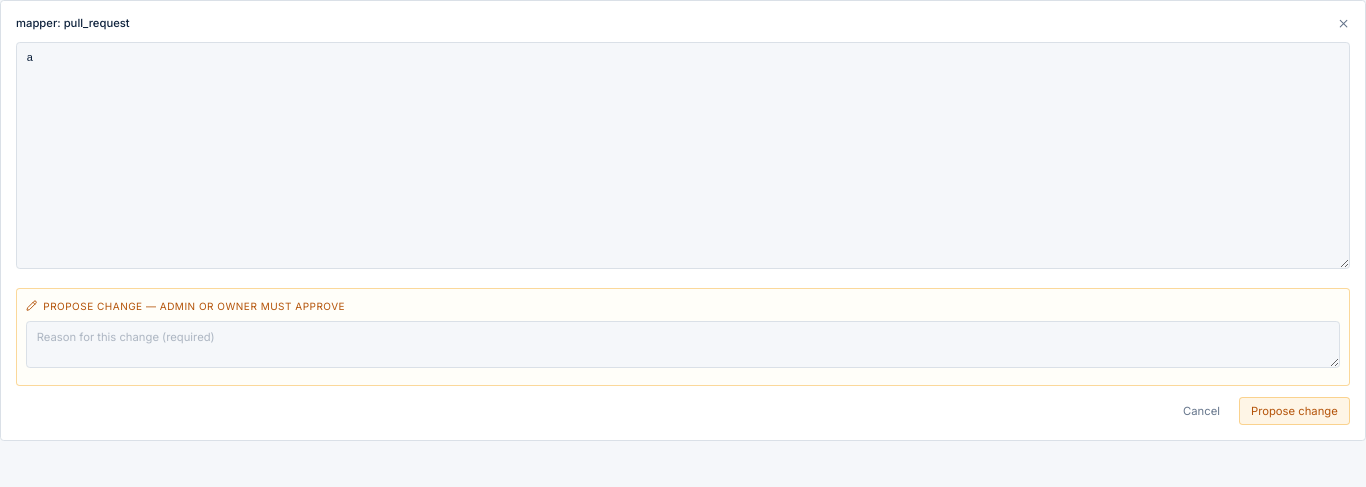
Test: GovernedYamlEditor — member › requires a non-empty reason before submitting
This screenshot has width=1366, height=487.
Step 1. Click the button "Propose change" → point(1294, 411), box [1239,397,1350,425]
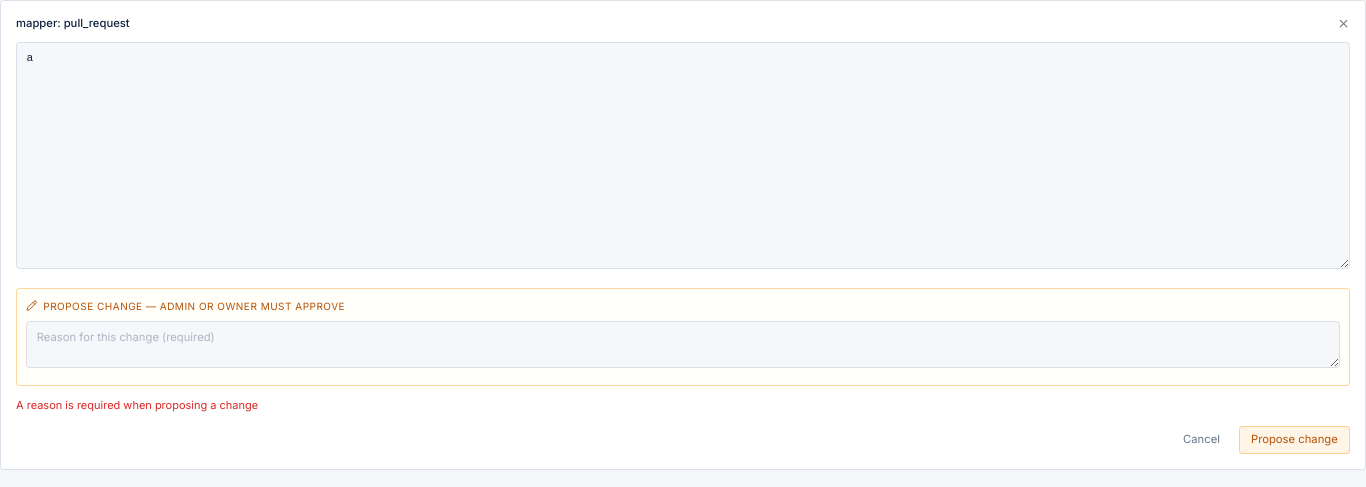
Expected: the text "A reason is required when proposing a change" is shown, [16,398,258,412]
